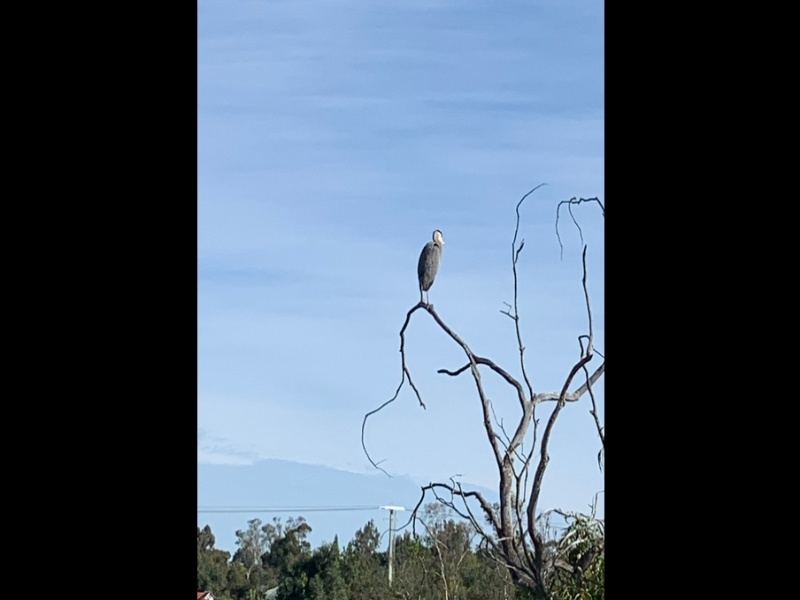heron: (415, 227, 447, 313)
